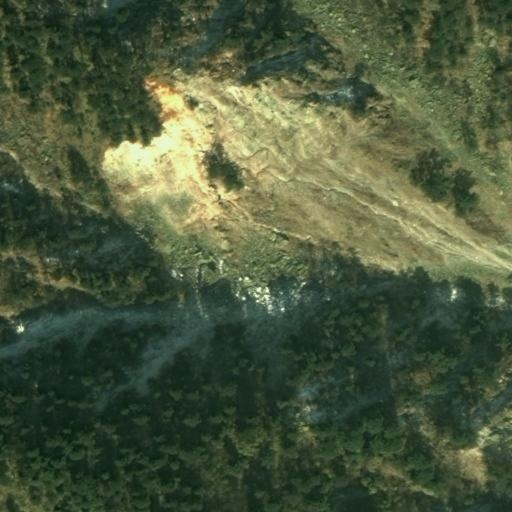landslide: (103, 69, 512, 275)
